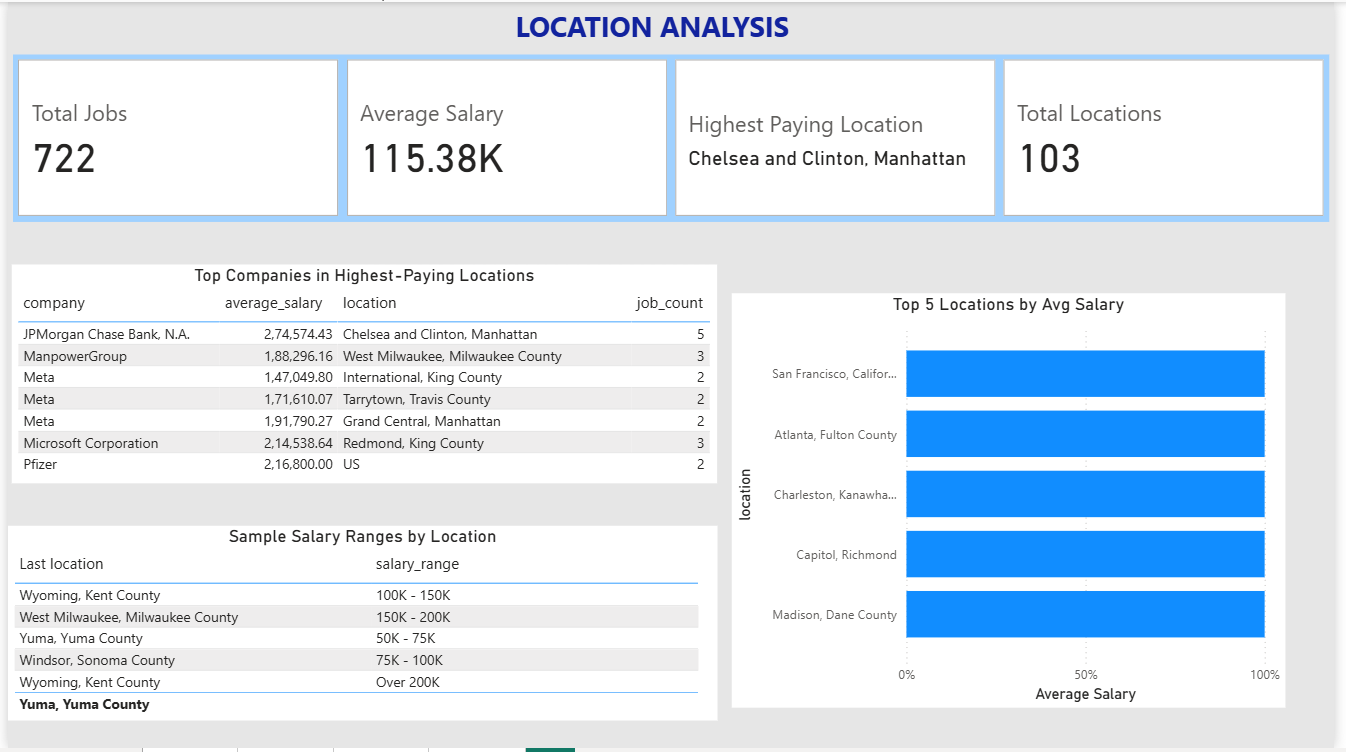

What the dashboard file says about the page in this screenshot:
{"tool":"powerbi","page":{"name":"Page 4","canvas":[1280,720],"ordinal":3},"visuals":[{"type":"textbox","box":[9.5,0,1224.3,79.7],"z":0},{"type":"tableEx","title":"Top Companies in Highest-Paying Locations","fields":{"Values":["job_analysis_db view_top_companies_by_location.company","job_analysis_db view_top_companies_by_location.average_salary","job_analysis_db view_top_companies_by_location.location","job_analysis_db view_top_companies_by_location.job_count"]},"box":[4.1,253.9,680.6,211.3],"z":1000},{"type":"hundredPercentStackedBarChart","title":"Top 5 Locations by Avg Salary","fields":{"Category":["job_analysis_db view_top_locations_by_jobs.location"],"Y":["Sum(job_analysis_db view_top_locations_by_jobs.average_salary)"]},"box":[698.8,281,534.5,400],"z":2000},{"type":"cardVisual","fields":{"Data":["job_analysis_db view_company_analysis.Total Jobs","Sum(job_analysis_db view_job_summary.average_salary)","job_analysis_db view_location_analysis.Highest Paying Location","job_analysis_db view_location_analysis.Total Locations"]},"box":[4.8,51.2,1270.2,161.9],"z":3000},{"type":"tableEx","title":"Sample Salary Ranges by Location","fields":{"Values":["job_analysis_db view_location_salary_distribution.location","job_analysis_db view_location_salary_distribution.salary_range"]},"box":[0,505,684.7,188],"z":4000}]}

Visuals, with their boxes in screenshot pixels (x1, y1, x2, y2), scaled from the page's 1280x720 canvas onto the 1346x752 screenshot:
textbox: 10/0/1297/83
"Top Companies in Highest-Paying Locations" tableEx: 4/265/720/486
"Top 5 Locations by Avg Salary" hundredPercentStackedBarChart: 735/293/1297/711
cardVisual - job_analysis_db view_company_analysis.Total Jobs x Sum(job_analysis_db view_job_summary.average_salary): 5/53/1341/223
"Sample Salary Ranges by Location" tableEx: 0/527/720/724
